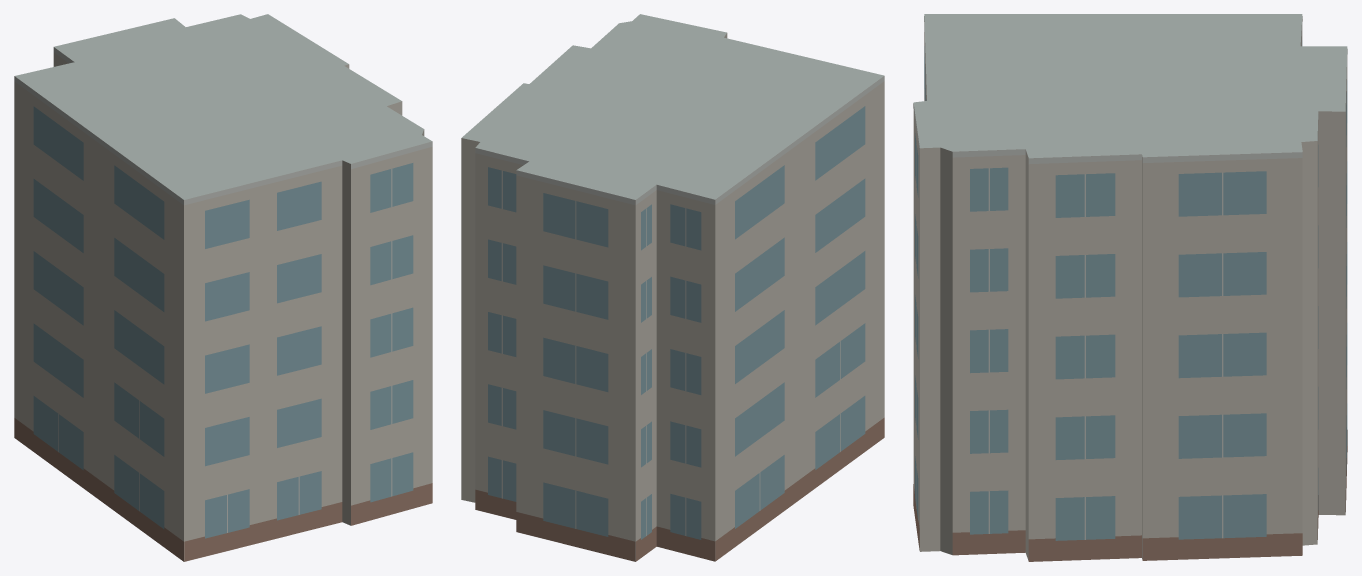
The model's file is survey-upis-32772328.glb.
3 views of the same model, side by side, from view 1: azimuth 30°, elevation 25°; view 2: azimuth 150°, elevation 25°; view 3: azimuth 270°, elevation 25° (orthographic). The views are drawn at different scales.
Visible parts, largest first — view 1: survey-upis-32772328.tmp; view 2: survey-upis-32772328.tmp; view 3: survey-upis-32772328.tmp.
Part boxes in pixels (x1,y1,x2,y2): survey-upis-32772328.tmp: [14, 14, 432, 561]; survey-upis-32772328.tmp: [461, 14, 884, 561]; survey-upis-32772328.tmp: [913, 14, 1347, 561].
Size of the model in its own units: 12.82 by 16.7 by 16.28.
